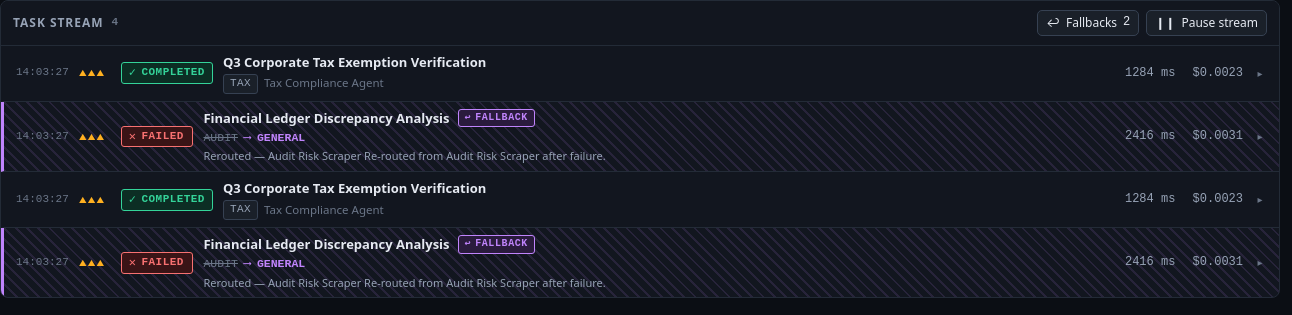
StreamPanel - the fallback filter › toggles back off
Click the button "↩ Fallbacks 2" at [1088, 23], box [1037,10,1139,36]
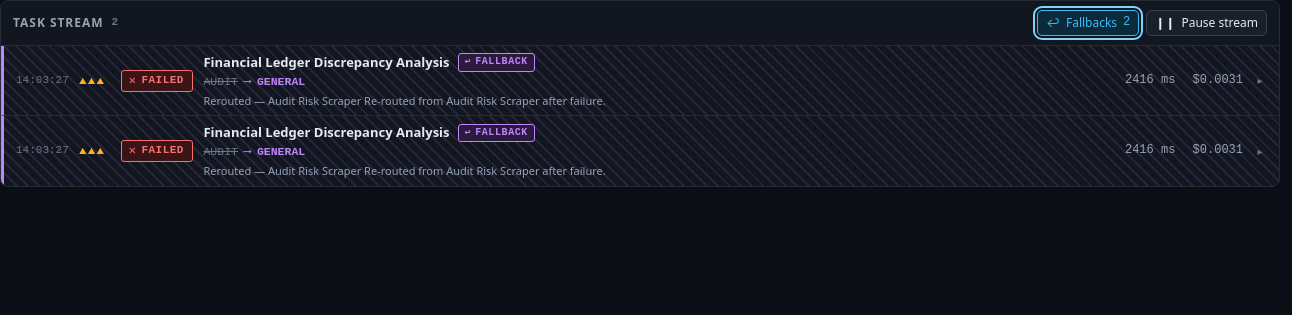
Click the button "↩ Fallbacks 2" at [1088, 23], box [1037,10,1139,36]
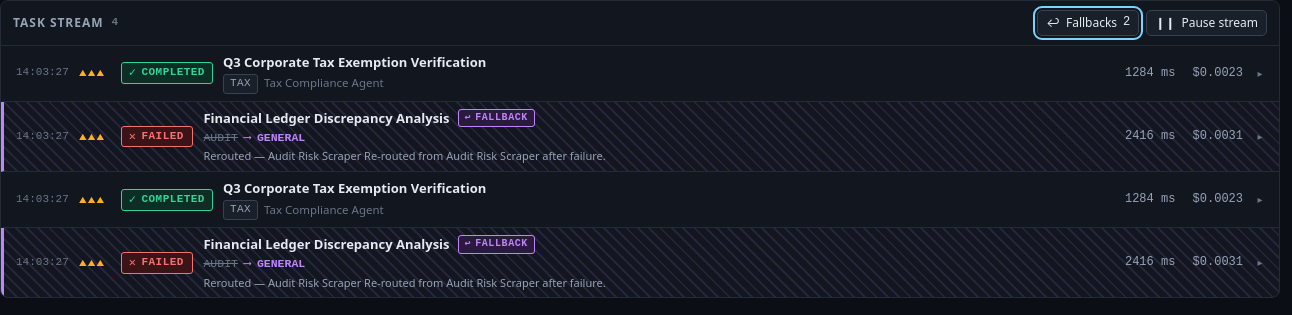
Result: the number of list items is 4 at [1,46,1279,102]; [1,102,1279,172]; [1,172,1279,228]; [1,228,1279,298]
